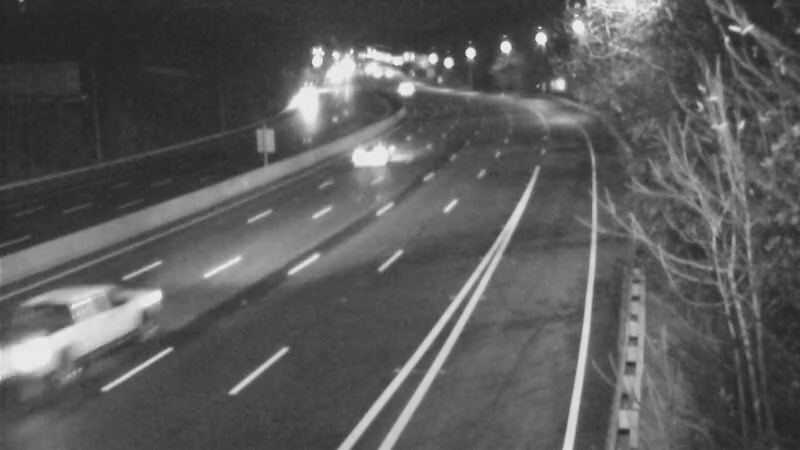vehicle: (19, 269, 129, 379), (326, 114, 406, 194), (378, 63, 428, 113)
